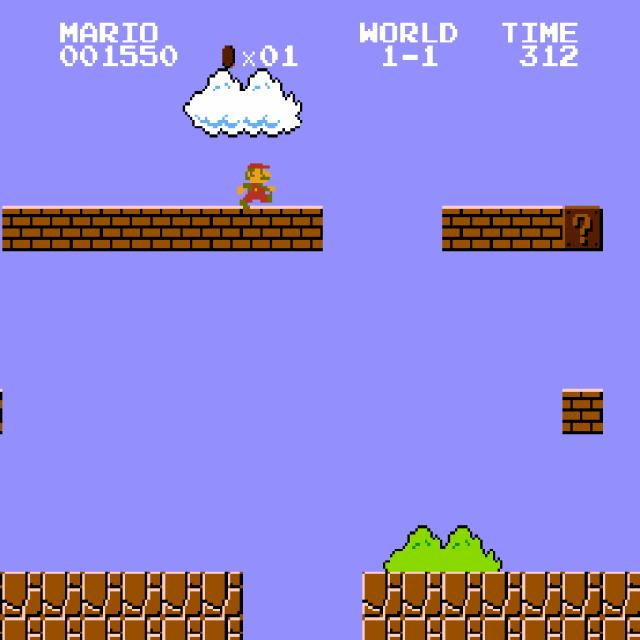brick_block: (2, 206, 43, 251), (42, 206, 83, 251), (82, 206, 123, 251), (122, 206, 163, 251), (162, 206, 203, 251), (202, 206, 243, 251), (242, 206, 283, 251), (282, 206, 323, 251), (442, 206, 483, 251), (482, 206, 523, 251), (522, 206, 563, 251), (562, 389, 603, 434), (0, 388, 2, 434)
little_mario: (235, 160, 278, 208)
mystery_block: (562, 206, 603, 251)
undestructible_block: (2, 572, 43, 617), (42, 572, 83, 617), (82, 572, 123, 617), (122, 572, 163, 617), (162, 572, 203, 617), (202, 572, 243, 617), (362, 572, 403, 617), (402, 572, 443, 617), (442, 572, 483, 617), (482, 572, 523, 617), (522, 572, 563, 617), (562, 572, 603, 617), (603, 572, 640, 617), (2, 617, 43, 640), (42, 617, 83, 640), (82, 617, 123, 640), (122, 617, 163, 640), (162, 617, 203, 640), (202, 617, 243, 640), (362, 617, 403, 640), (402, 617, 443, 640), (442, 617, 483, 640), (482, 617, 523, 640), (522, 617, 563, 640), (562, 617, 603, 640), (603, 617, 640, 640), (0, 571, 2, 617), (0, 617, 2, 639)
